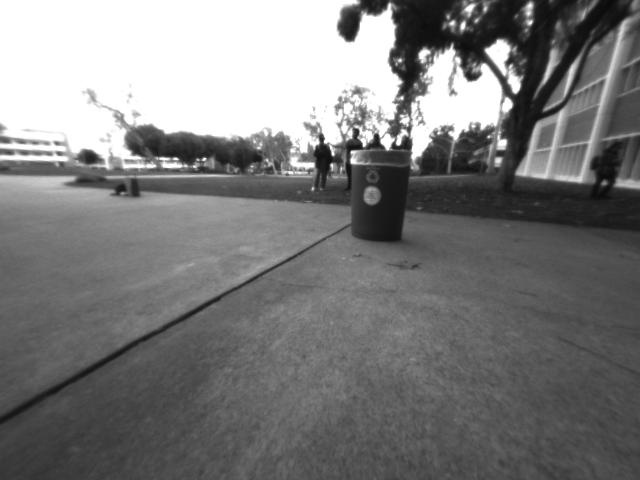trashcan_open: (348, 147, 409, 245)
